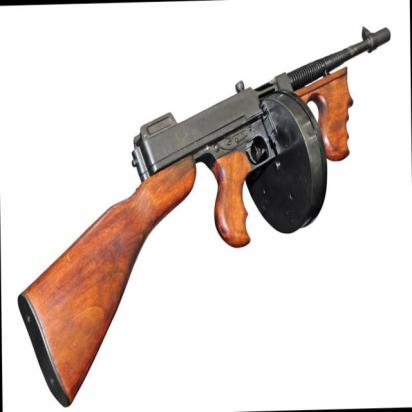Gun: (14, 17, 396, 407)
